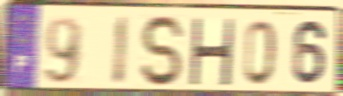0: (243, 19, 279, 87)
6: (291, 19, 329, 87)
9: (41, 15, 87, 85)
H: (187, 16, 237, 88)
I: (111, 14, 131, 88)
S: (139, 14, 188, 90)
